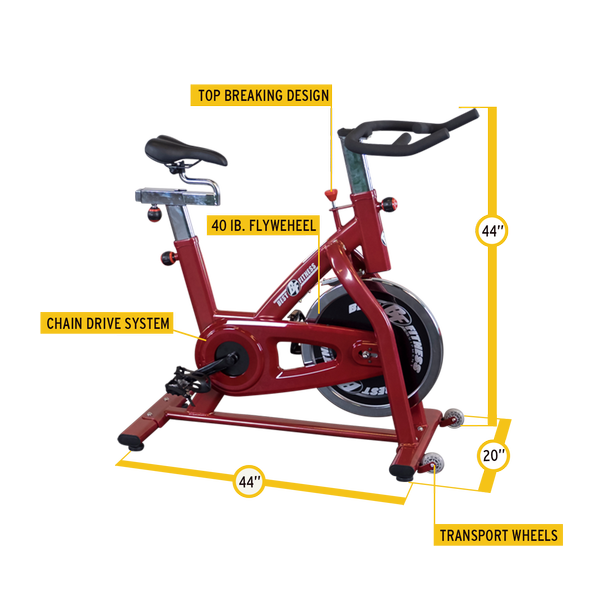gym_bike: (100, 102, 486, 488)
